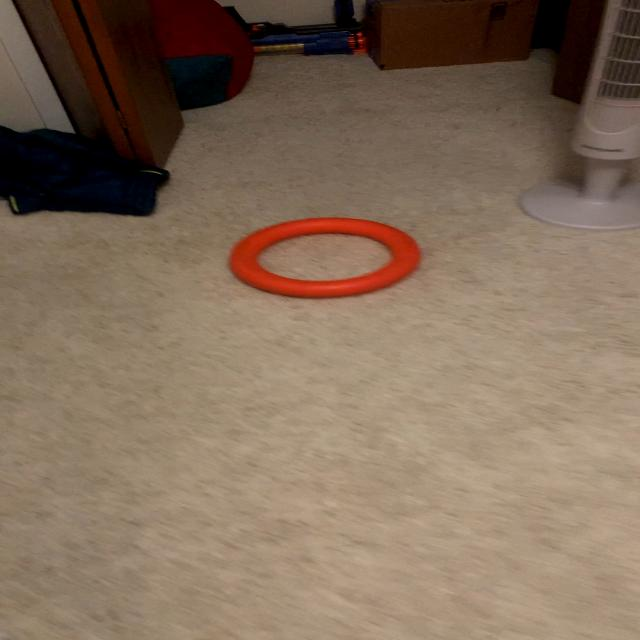notes: (232, 220, 422, 300)
